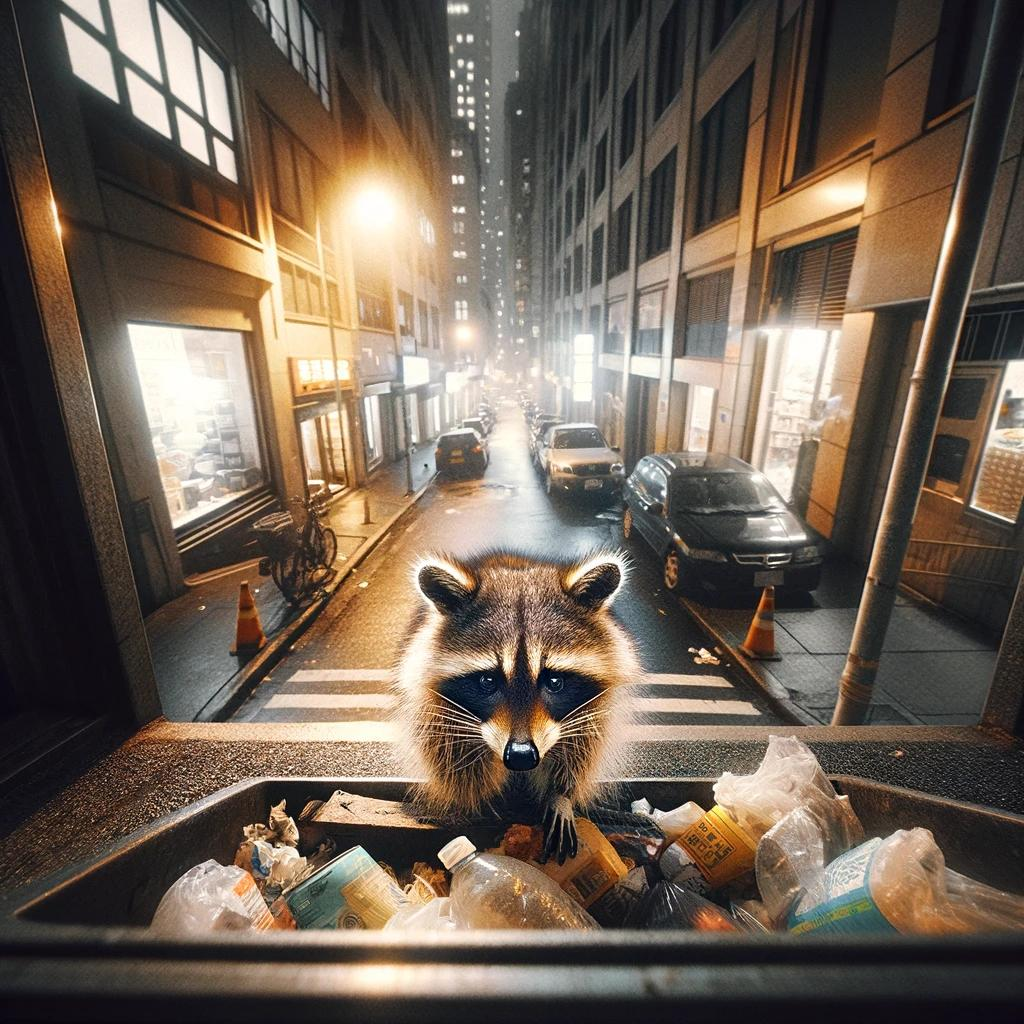raccoon: (377, 532, 652, 820)
